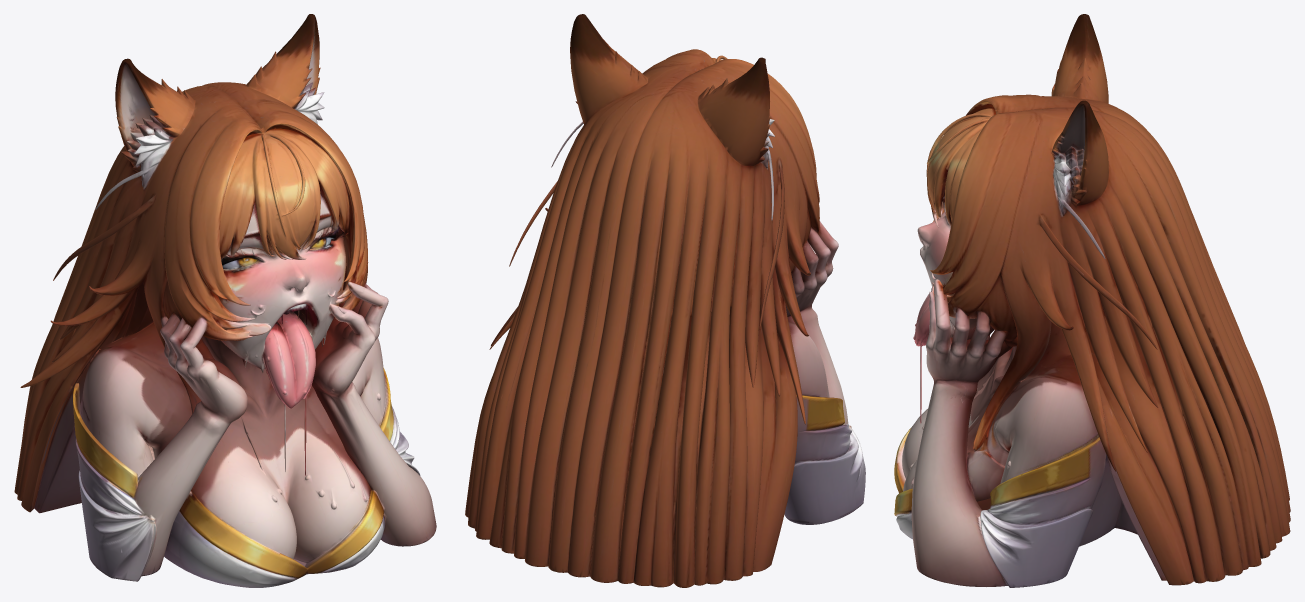
File: 01a1a2e2-a658-7d8a-b1ea-f1bcd3e9cd41.glb
3 renders of one model, left to right at view 1: azimuth 30°, elevation 25°; view 2: azimuth 150°, elevation 25°; view 3: azimuth 270°, elevation 25°, orthographic. The views are drawn at different scales.
Parts seen in each view (by area): view 1: node_0; view 2: node_0; view 3: node_0.
Boxes of the visible parts, x1,y1,x2,y2 form: node_0: [14, 14, 436, 587]; node_0: [465, 14, 865, 587]; node_0: [894, 14, 1290, 587].
Bounding box in the file's own units: 0.6728 × 0.9018 × 0.7098.
Materials: 1 (1 with a texture image).
